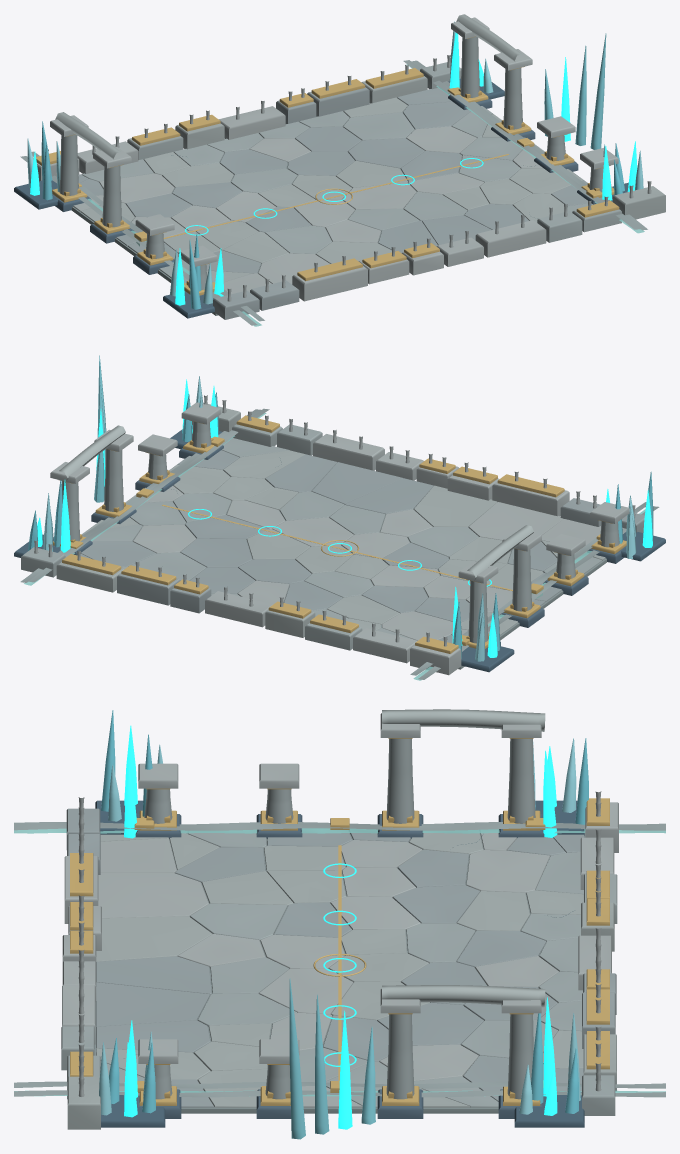
The picture shows the model from 3 angles, top to bottom: view 1: azimuth 30°, elevation 25°; view 2: azimuth 150°, elevation 25°; view 3: azimuth 270°, elevation 25°; orthographic projection. The views are drawn at different scales.
Parts seen in each view (by area): view 1: courtyard--stone-pale, boundary-masonry--stone-pale, colonnade--stone-pale, crystal-spires--crystal, boundary-masonry--trim-brass, water-basins--stone-pale, crystal-spires--emissive, colonnade--trim-brass, colonnade--stone-dark, crystal-spires--stone-dark, courtyard--trim-brass, water-basins--trim-brass; view 2: courtyard--stone-pale, boundary-masonry--stone-pale, colonnade--stone-pale, boundary-masonry--trim-brass, crystal-spires--crystal, water-basins--stone-pale, crystal-spires--emissive, colonnade--trim-brass, crystal-spires--stone-dark, colonnade--stone-dark, courtyard--trim-brass, water-basins--trim-brass (+1 smaller); view 3: courtyard--stone-pale, colonnade--stone-pale, boundary-masonry--stone-pale, crystal-spires--crystal, water-basins--stone-pale, boundary-masonry--trim-brass, crystal-spires--emissive, crystal-spires--stone-dark, colonnade--stone-dark, colonnade--trim-brass, water-basins--water, courtyard--trim-brass (+2 smaller).
Boxes of the visible parts, x1,y1,x2,y2 form: courtyard--stone-pale: (72, 88, 595, 315); boundary-masonry--stone-pale: (33, 55, 665, 319); colonnade--stone-pale: (50, 14, 618, 289); crystal-spires--crystal: (27, 21, 643, 309); boundary-masonry--trim-brass: (36, 68, 619, 281); water-basins--stone-pale: (20, 60, 647, 325); crystal-spires--emissive: (30, 32, 637, 305); colonnade--trim-brass: (52, 36, 614, 295); colonnade--stone-dark: (53, 95, 614, 295); crystal-spires--stone-dark: (14, 78, 628, 318); courtyard--trim-brass: (163, 154, 508, 238); water-basins--trim-brass: (78, 87, 602, 292); courtyard--stone-pale: (80, 438, 606, 669); boundary-masonry--stone-pale: (21, 395, 644, 675); colonnade--stone-pale: (50, 402, 629, 643); boundary-masonry--trim-brass: (62, 415, 564, 653); crystal-spires--crystal: (28, 355, 653, 661); water-basins--stone-pale: (20, 408, 659, 679); crystal-spires--emissive: (37, 379, 652, 657); colonnade--trim-brass: (53, 420, 626, 648); crystal-spires--stone-dark: (14, 424, 665, 672); colonnade--stone-dark: (53, 445, 626, 647); courtyard--trim-brass: (162, 504, 512, 590); water-basins--trim-brass: (70, 436, 600, 645); courtyard--stone-pale: (94, 829, 585, 1113); colonnade--stone-pale: (138, 709, 545, 1099); boundary-masonry--stone-pale: (61, 791, 618, 1129); crystal-spires--crystal: (99, 710, 588, 1139); water-basins--stone-pale: (14, 822, 665, 1097); boundary-masonry--trim-brass: (70, 798, 609, 1076); crystal-spires--emissive: (124, 725, 557, 1129); crystal-spires--stone-dark: (95, 800, 584, 1127); colonnade--stone-dark: (135, 814, 544, 1118); colonnade--trim-brass: (139, 738, 540, 1105); water-basins--water: (14, 828, 665, 1096); courtyard--trim-brass: (313, 845, 366, 1080).
Size of the model in its own units: 17.03 by 3.99 by 14.
